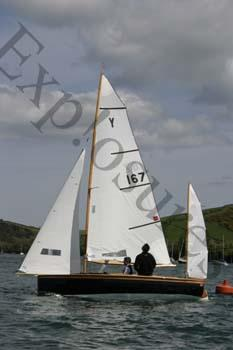Ship: (20, 75, 211, 302)
